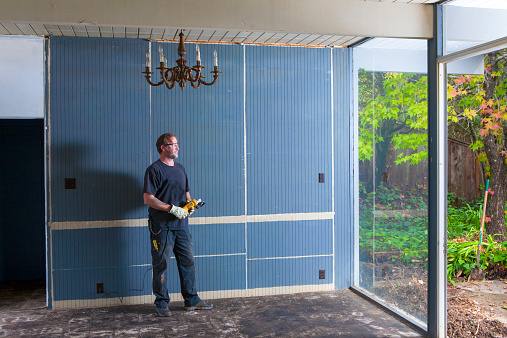em pe: (135, 130, 202, 315)
